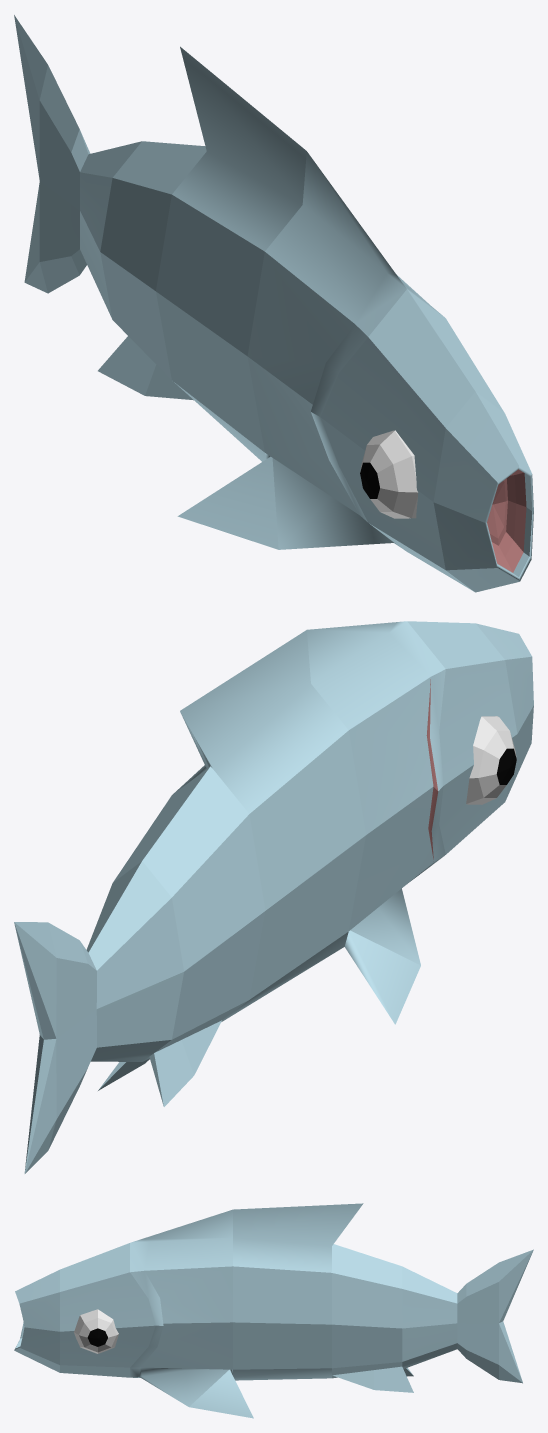
The model's file is Fesh.fbx.
3 views of the same model, one above another, from view 1: azimuth 30°, elevation 25°; view 2: azimuth 150°, elevation 25°; view 3: azimuth 270°, elevation 25° (orthographic). The views are drawn at different scales.
Visible parts, largest first — view 1: pSphere1, pSphere2; view 2: pSphere1, pSphere2; view 3: pSphere1, pSphere2.
Part boxes in pixels (x1,y1,x2,y2): pSphere1: (14,15,533,592); pSphere2: (360,430,418,518); pSphere1: (14,621,533,1173); pSphere2: (466,716,516,804); pSphere1: (14,1203,533,1418); pSphere2: (74,1309,118,1353).
Size of the model in its own units: 1.6 by 2.57 by 6.45.
